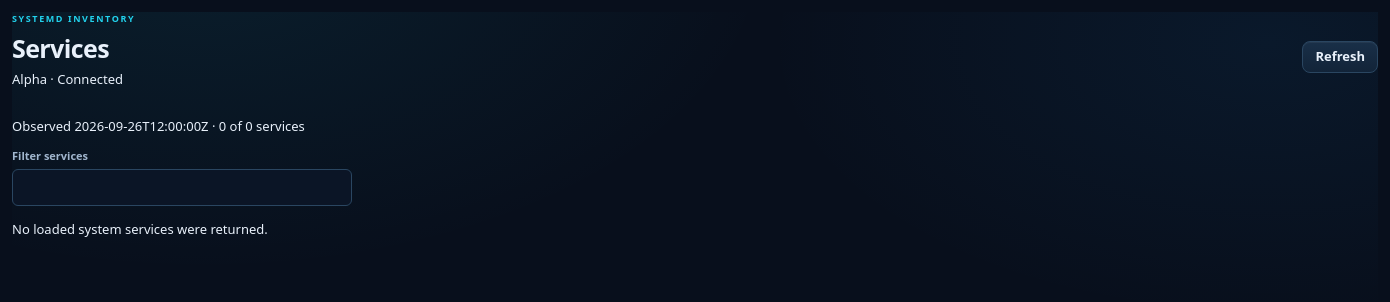
Test case: session-bound Services workspace › distinguishes empty, unavailable and failed refresh with same-session snapshot
This screenshot has width=1390, height=302.
Later steps or results of the test are not shown.
Expected: the text "No loaded system services were returned." is shown, [12, 220, 268, 238]
What coordinates should you click on to do the following:
click the button "Refresh"
I would click on:
 (1340, 56)
Its box is [1302, 40, 1378, 72].
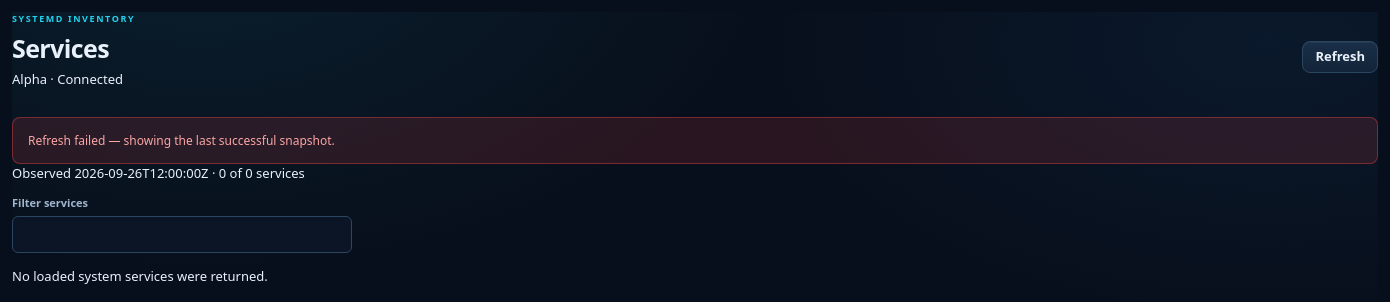
Expected: the text "No loaded system services were returned." is shown, [12, 267, 268, 285]
Result: the text "Refresh failed — showing the last successful snapshot." is shown at [12, 117, 1378, 164]
